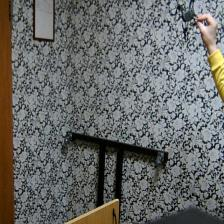drone: (162, 0, 213, 43)
